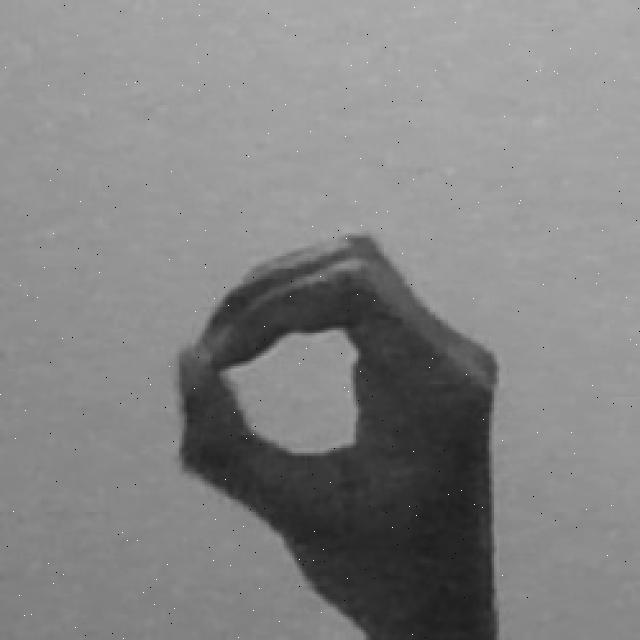O: (170, 224, 508, 633)
